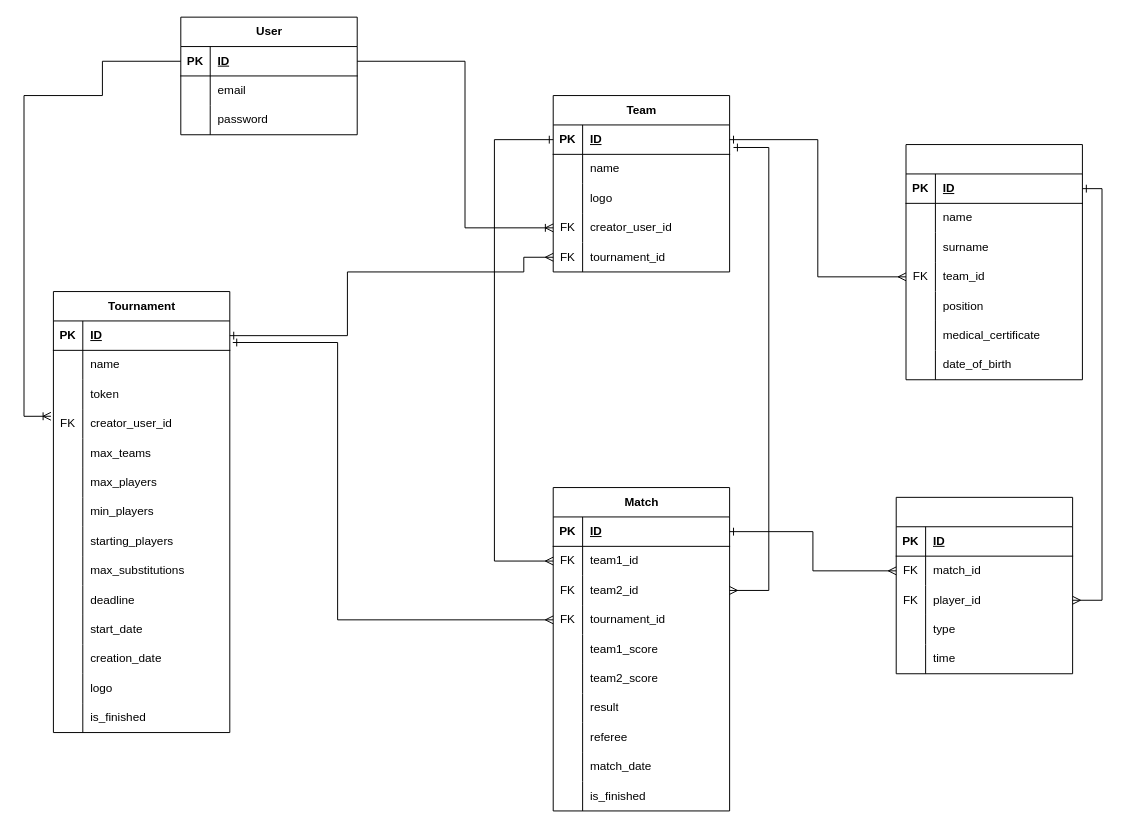
Image size: 1128x828. Some labels were removed from this diagram. The box of each missing label's shape, as (x1, y1, x2, y2) in pixels:
Event: (895, 496, 1073, 674)
Player: (905, 144, 1082, 380)
